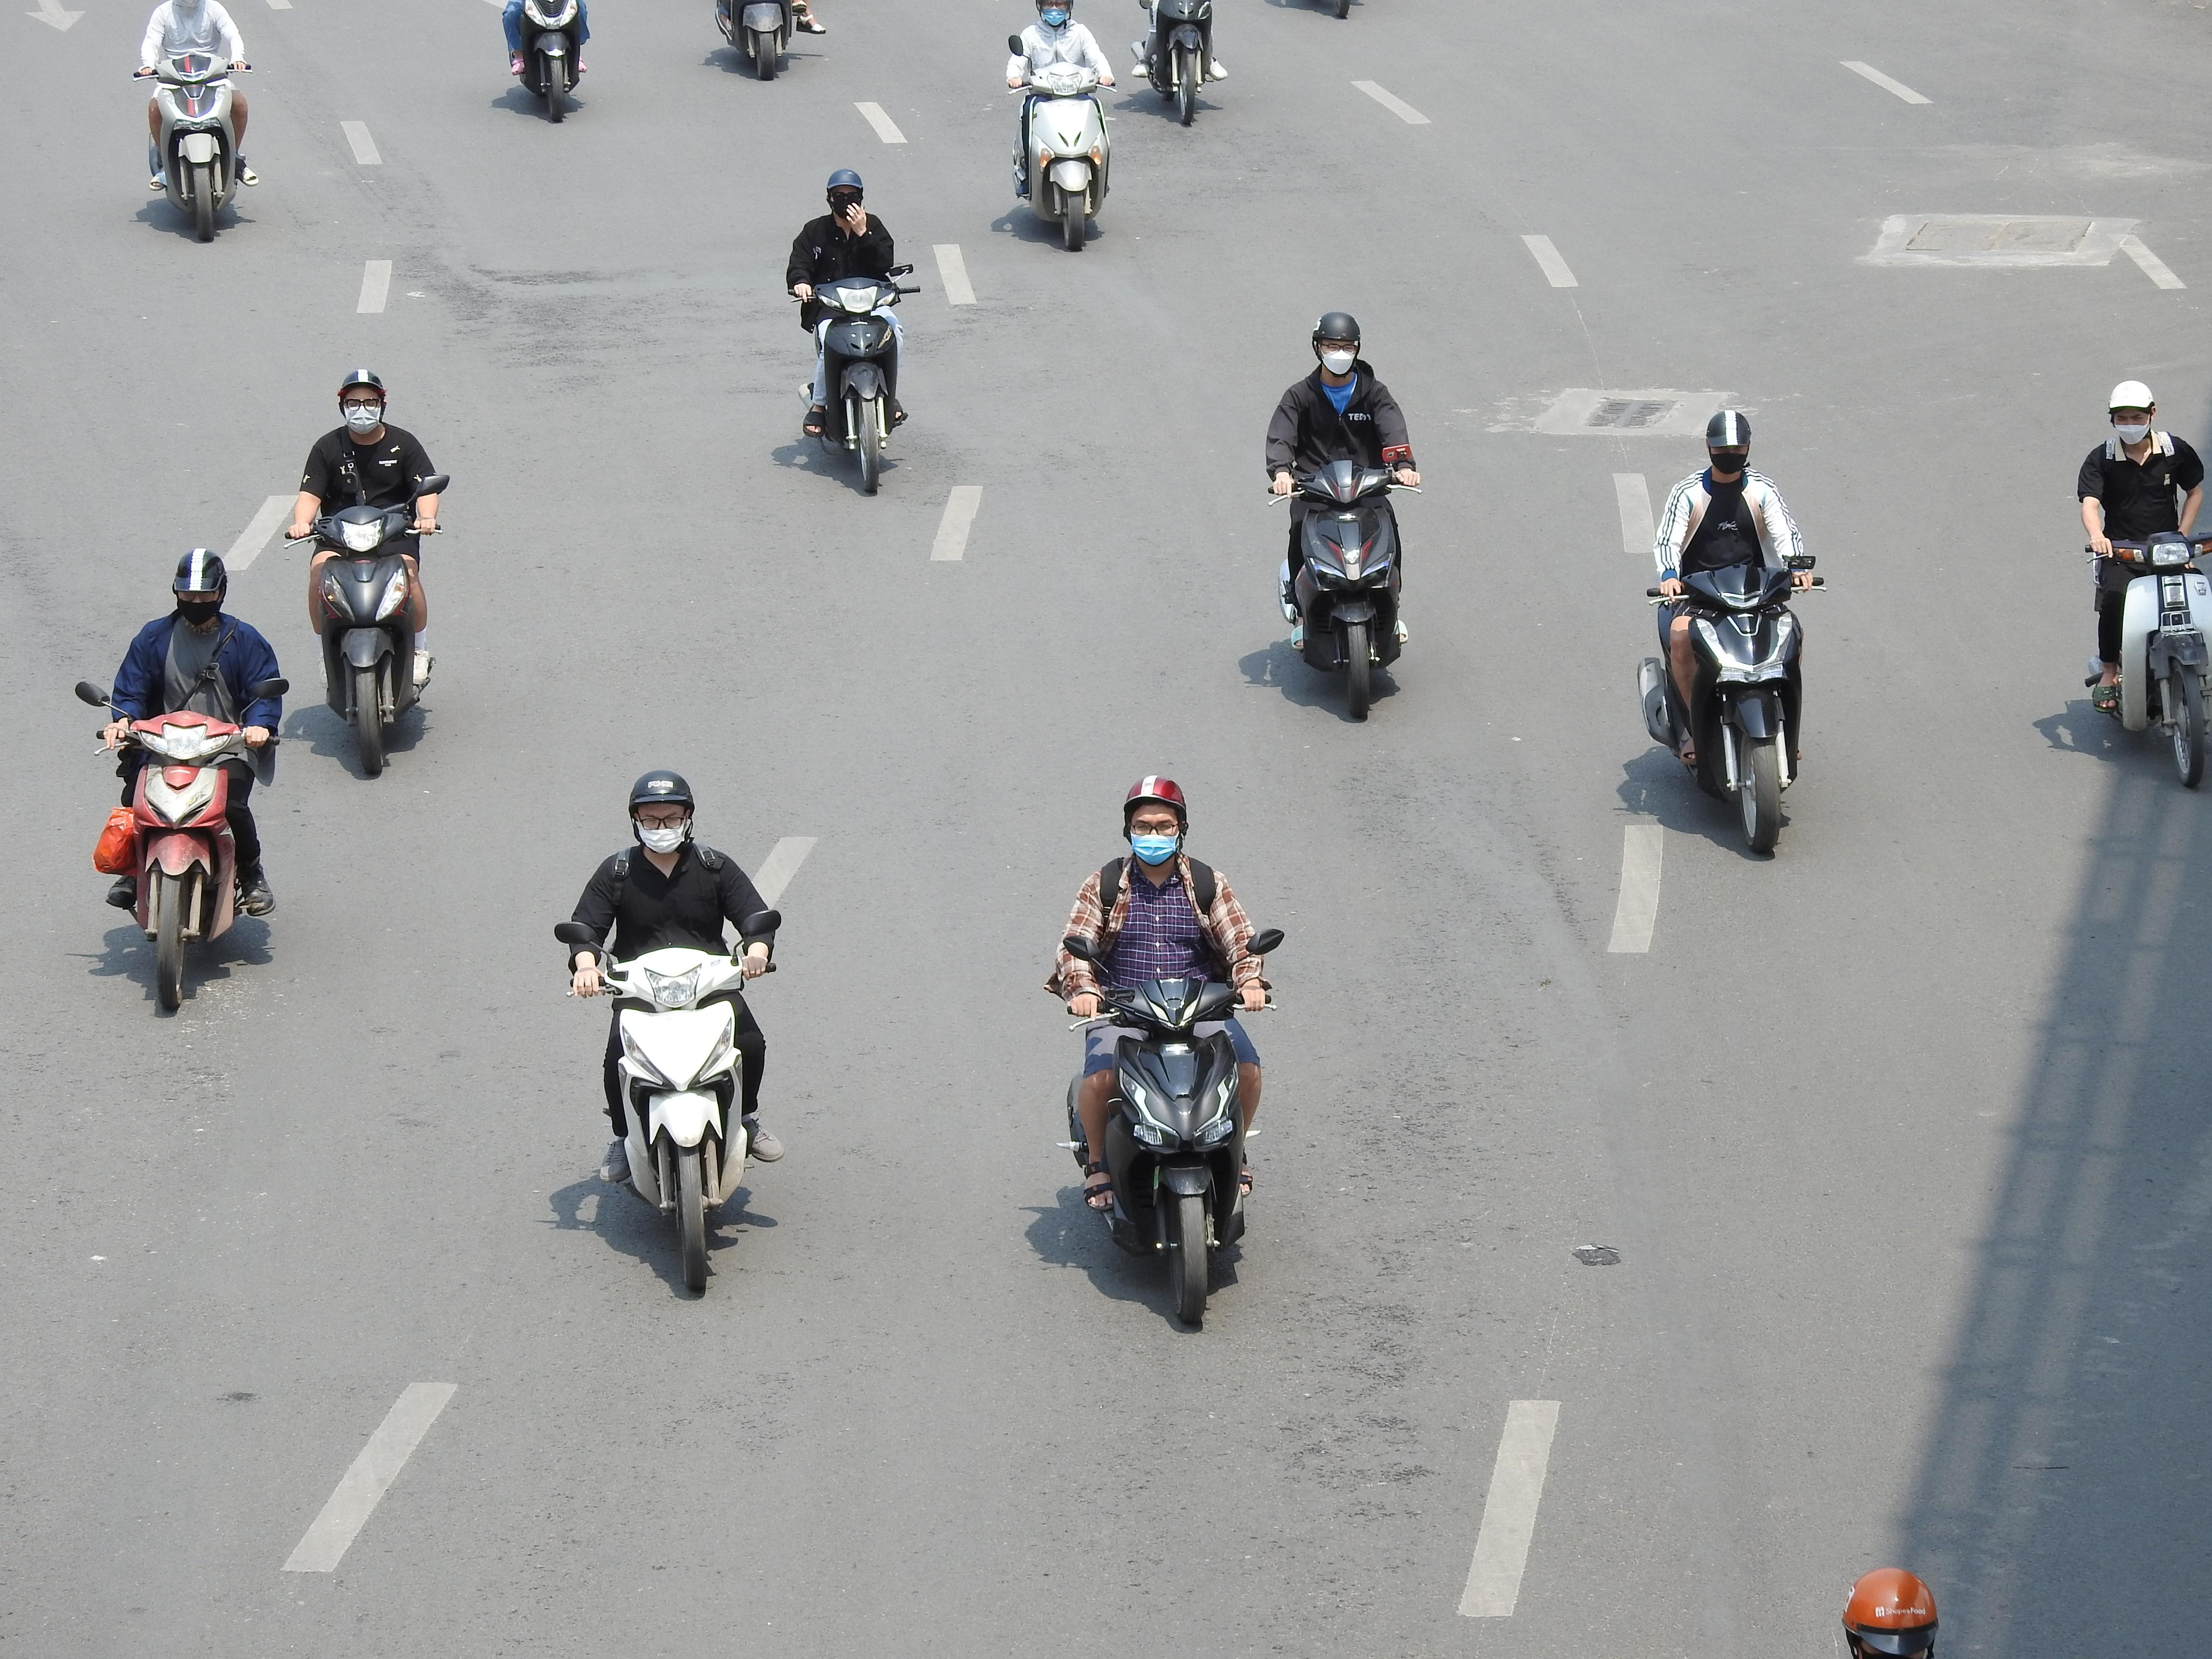motorbike: (1054, 774, 1282, 1333), (557, 769, 784, 1300), (82, 545, 287, 1018), (1641, 406, 1822, 859), (289, 366, 446, 781), (1266, 310, 1420, 723), (2080, 378, 2212, 793), (791, 166, 914, 497), (139, 0, 254, 242), (1007, 0, 1116, 253), (1132, 0, 1224, 127), (502, 0, 594, 124)
